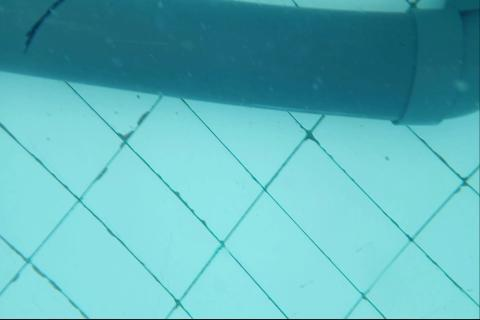keretakan: (24, 1, 64, 54)
